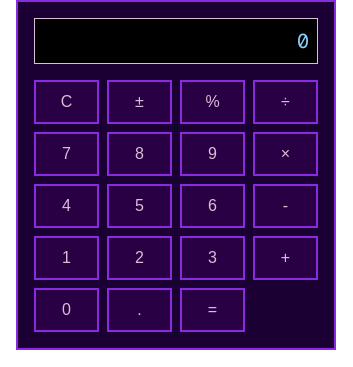
Test: Calculatory › doit effectuer une addition depuis l'interface
Click the button "7" at (66, 154), box [34, 132, 99, 176]
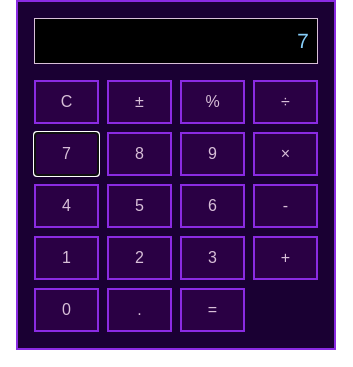
Click the button "+" at (286, 258), box [253, 236, 318, 280]
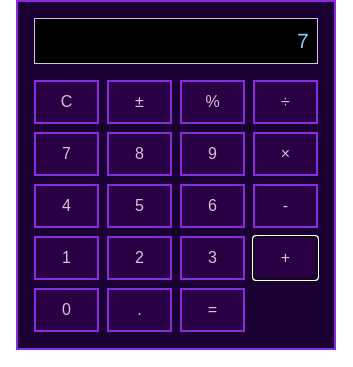
Click the button "5" at (140, 206), box [107, 184, 172, 228]
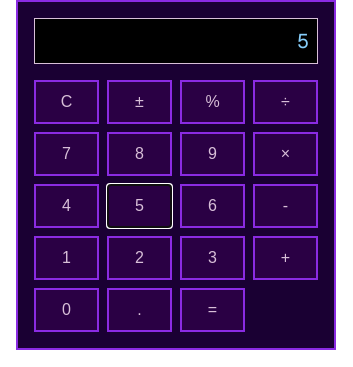
Click the button "=" at (212, 310), box [180, 288, 245, 332]
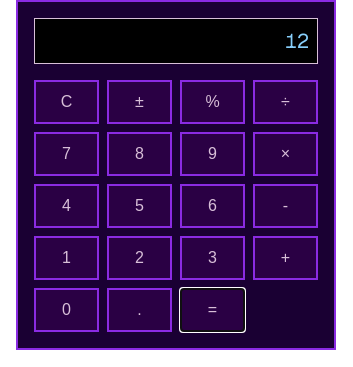
Result: the message reads "12" at [285, 28, 309, 54]
